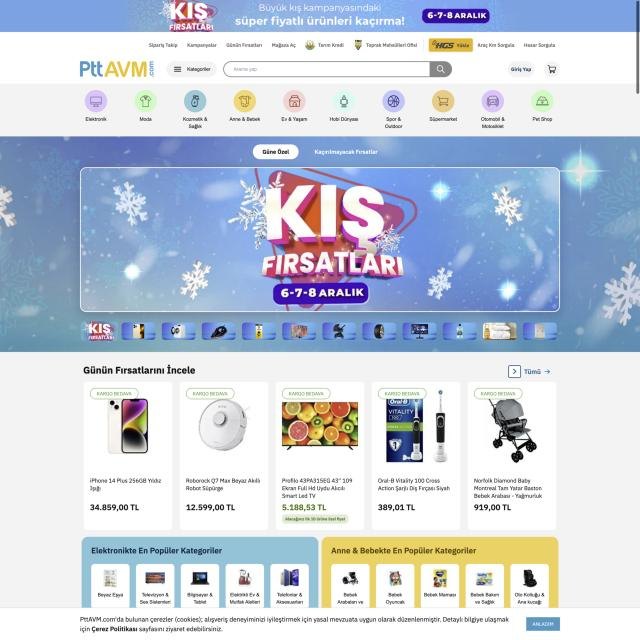CheckBox: (312, 146, 381, 160), (508, 363, 552, 381), (252, 144, 300, 160), (429, 38, 473, 52), (525, 616, 560, 632), (508, 61, 534, 77), (429, 62, 452, 78), (543, 60, 560, 78)
CheckedTextView: (223, 60, 453, 78)
ImageView: (0, 0, 640, 32)
Input field: (78, 612, 514, 636)
Spinner: (83, 382, 173, 532), (179, 381, 269, 531), (370, 382, 461, 530), (468, 381, 559, 529), (275, 382, 365, 528)
bag: (1, 30, 637, 136)
breadcrumbs: (81, 362, 198, 378)
card: (0, 136, 640, 351)
carousel: (436, 64, 447, 75)
data feed: (531, 621, 554, 627)
date picker: (76, 57, 156, 80)
decoration: (73, 83, 554, 133), (147, 41, 420, 50), (167, 60, 217, 78)
footer: (232, 66, 257, 73)
header: (0, 607, 640, 640)
